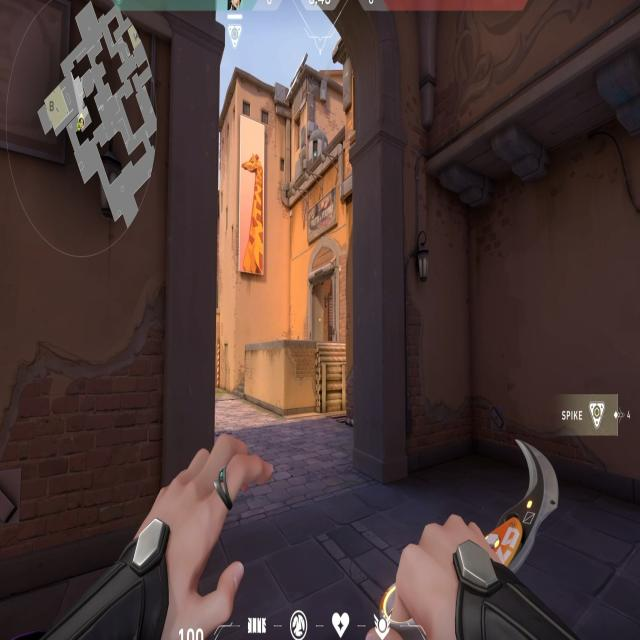B_Cubby: (278, 329, 348, 422)
